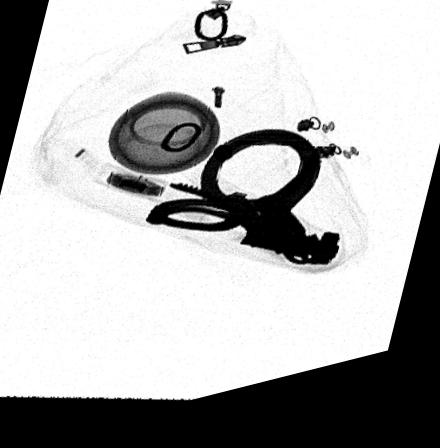HandCuffs: (142, 143, 342, 281)
